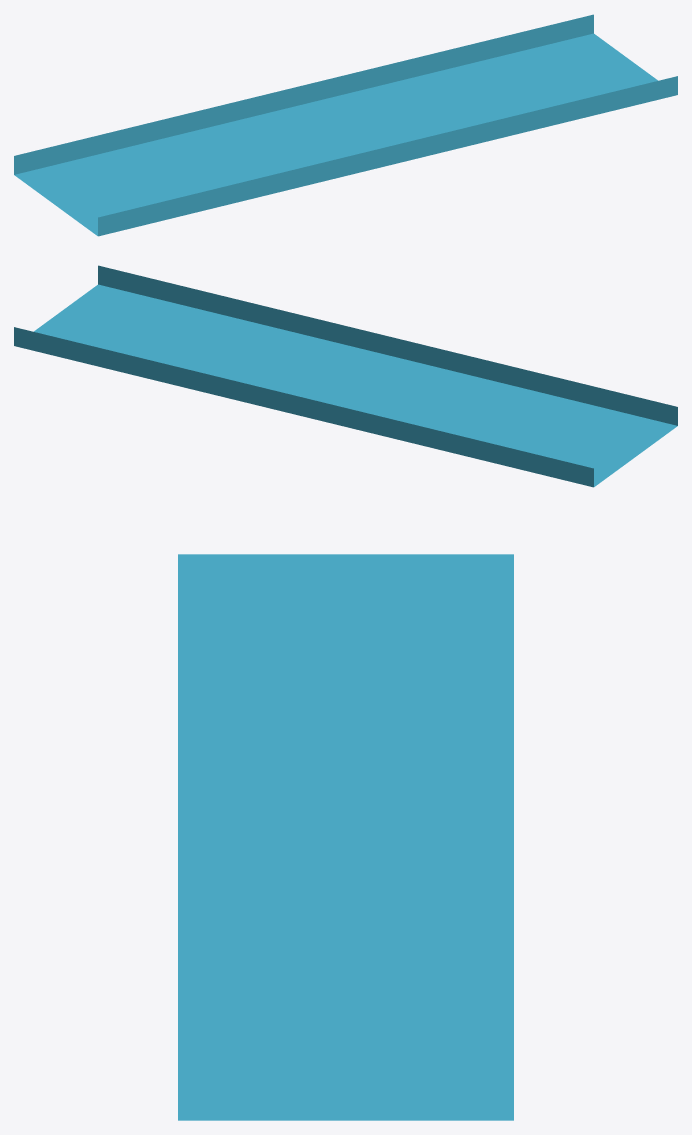
Rendered from Itr_Couch_Outside_Bottom_05.FBX.
3 renders of one model, top to bottom at view 1: azimuth 30°, elevation 25°; view 2: azimuth 150°, elevation 25°; view 3: azimuth 270°, elevation 25°, orthographic. The views are drawn at different scales.
Visible parts, largest first — view 1: Itr_Couch_Outside_Bottom_05; view 2: Itr_Couch_Outside_Bottom_05; view 3: Itr_Couch_Outside_Bottom_05.
Part boxes in pixels (box(x1,y1,x2,y2)): Itr_Couch_Outside_Bottom_05: box(14, 14, 677, 236); Itr_Couch_Outside_Bottom_05: box(14, 265, 677, 487); Itr_Couch_Outside_Bottom_05: box(178, 554, 513, 1120).
Size of the model in its own units: 57.26 by 1.79 by 14.38.
